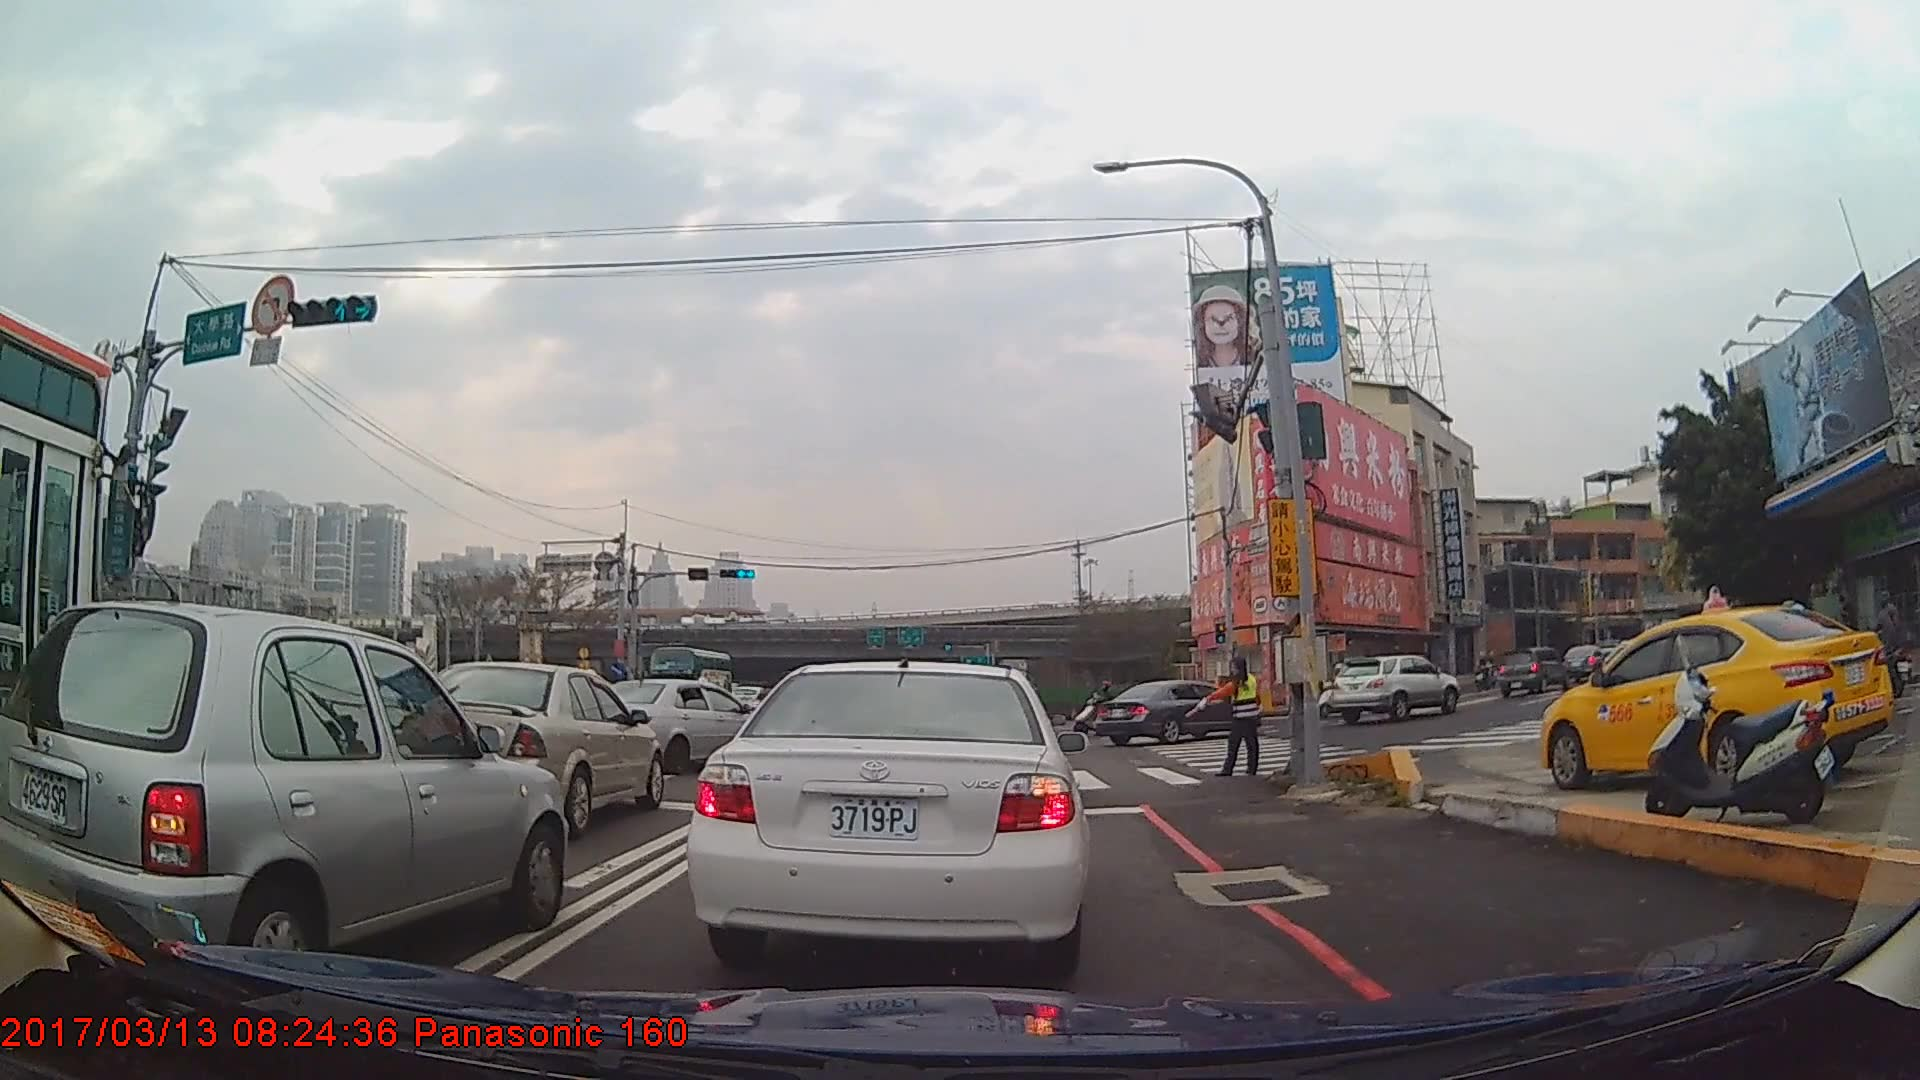pedestrian: (1186, 657, 1263, 778)
rider: (1866, 588, 1916, 698), (1076, 681, 1136, 739), (1320, 662, 1355, 715)
vehicle: (0, 600, 568, 986), (685, 652, 1089, 968), (1540, 603, 1894, 793), (0, 297, 109, 841), (404, 659, 663, 837), (591, 677, 772, 774), (1093, 680, 1258, 747), (1330, 651, 1457, 721), (647, 645, 731, 703), (1495, 646, 1570, 697), (732, 685, 772, 711)
